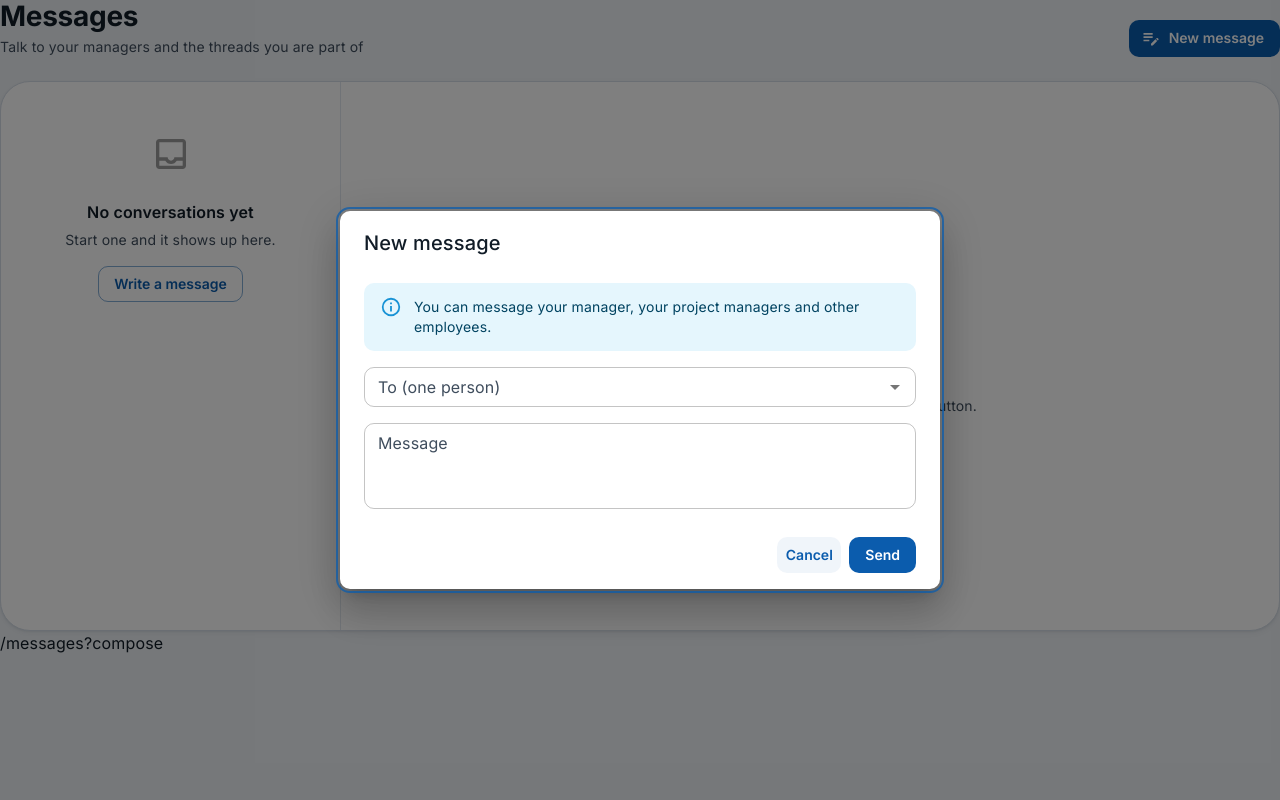
Test: a new message › the server refusing a recipient is shown in the dialog
The width and height of the screenshot is (1280, 800).
Step 1. Click the dropdown labelled "To (one person)" → (624, 387), box [370,373,877,401]
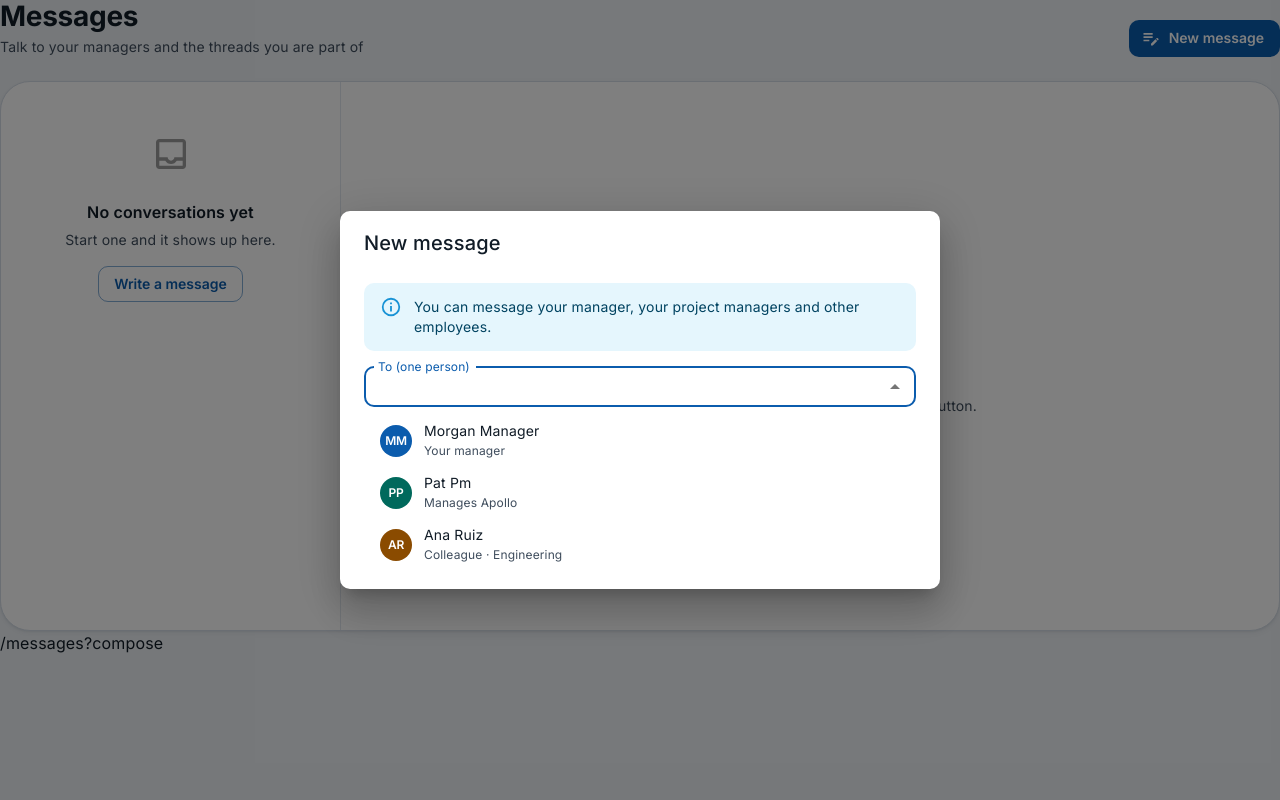
Step 2. Click the option "PP Pat Pm Manages Apollo" → (449, 492), box [380,474,517,510]
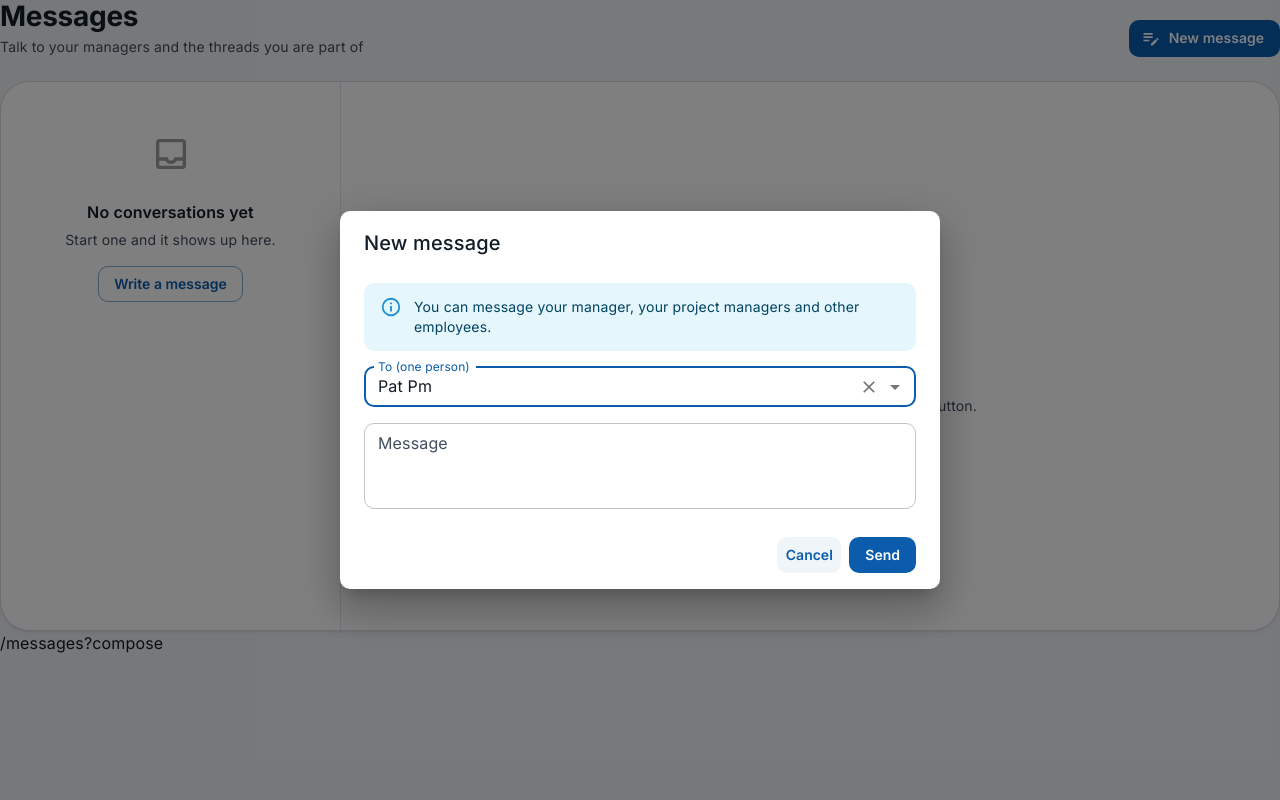
Step 3. Type "Hi" into the text box labelled "Message" → (640, 466), box [378,431,902,500]
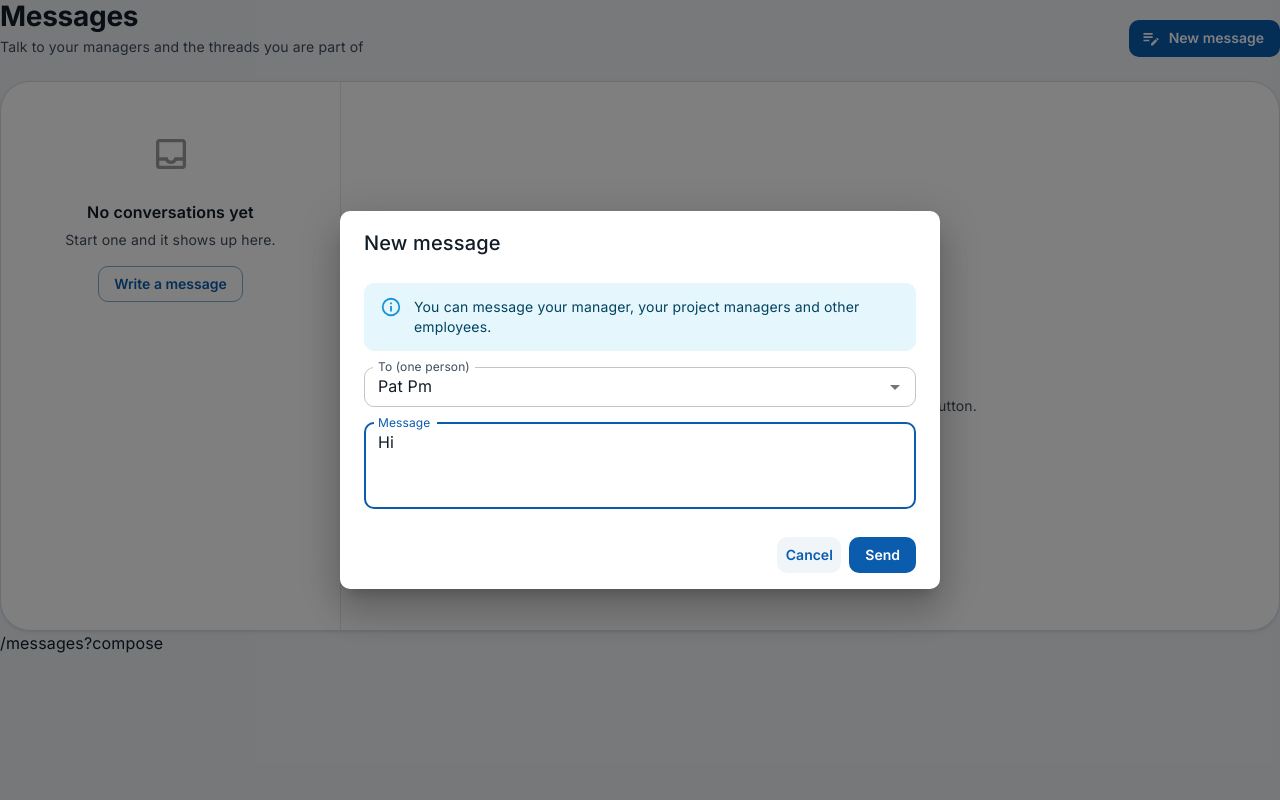
Step 4. Click the button "Send" → (883, 555), box [849,537,916,573]
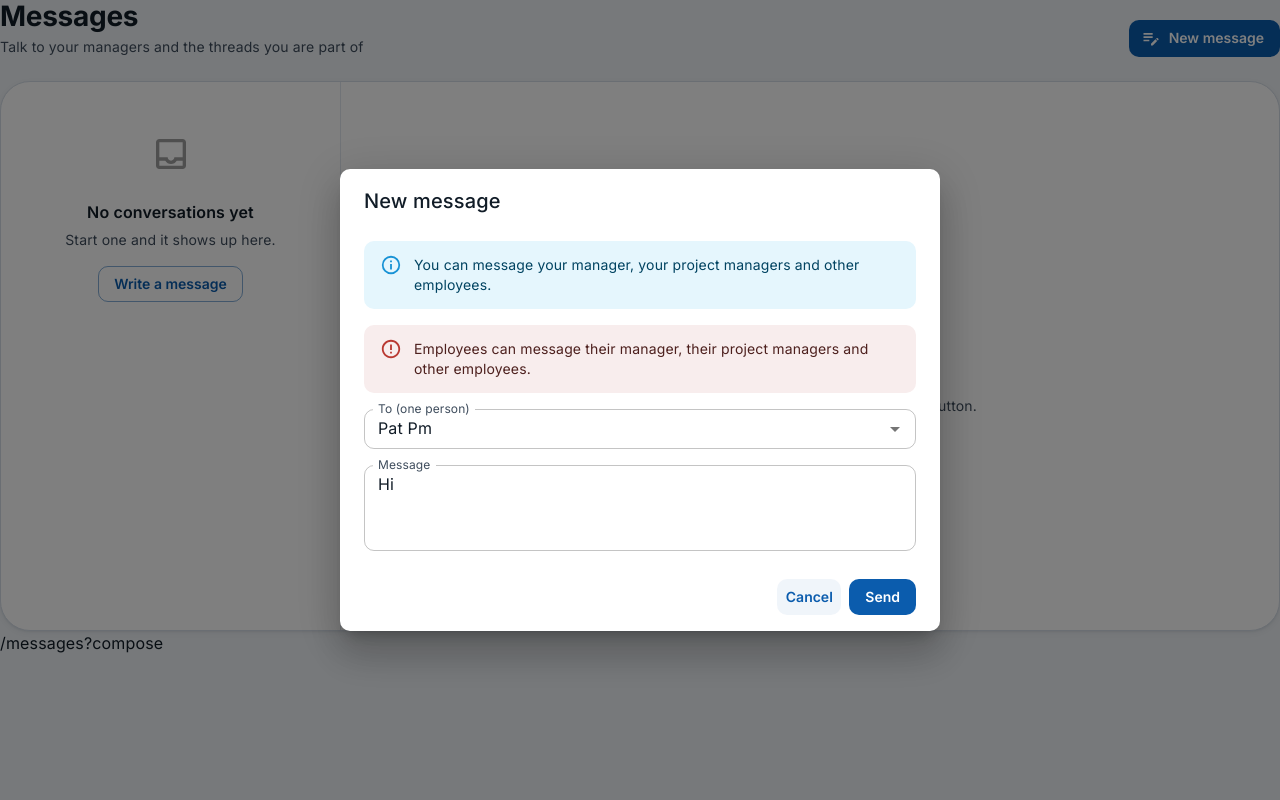
Now the message reads "Employees can message their manager, their project managers and other employees.", box [414,340,868,377]
